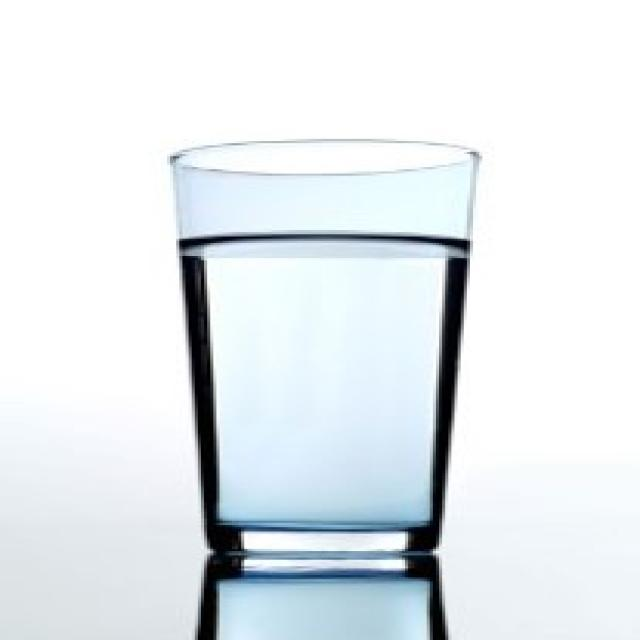electronic: (164, 135, 482, 562)
